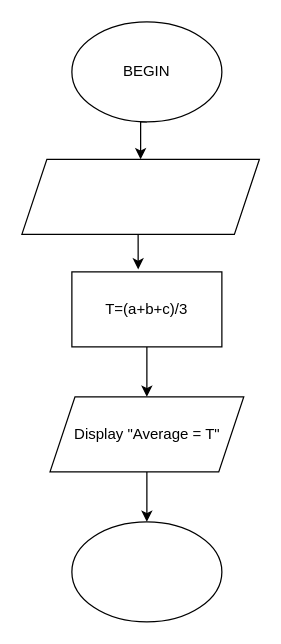
The diagram is 281 pixels wide and 644 high, and some of its shapes have lost their labels. Each missing label, with the centre of its shape:
"END" belongs at point 146,571.
"Input a: Math,b: Physics, c: Chemistry" belongs at point 140,196.
